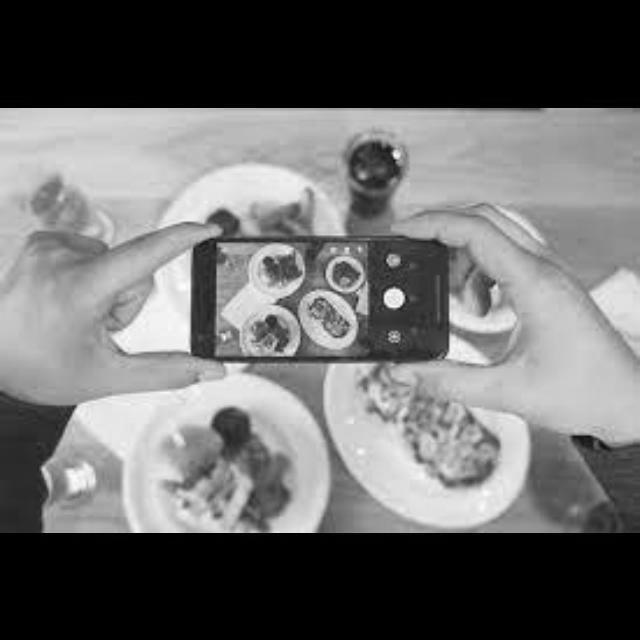fake: (166, 211, 480, 377)
